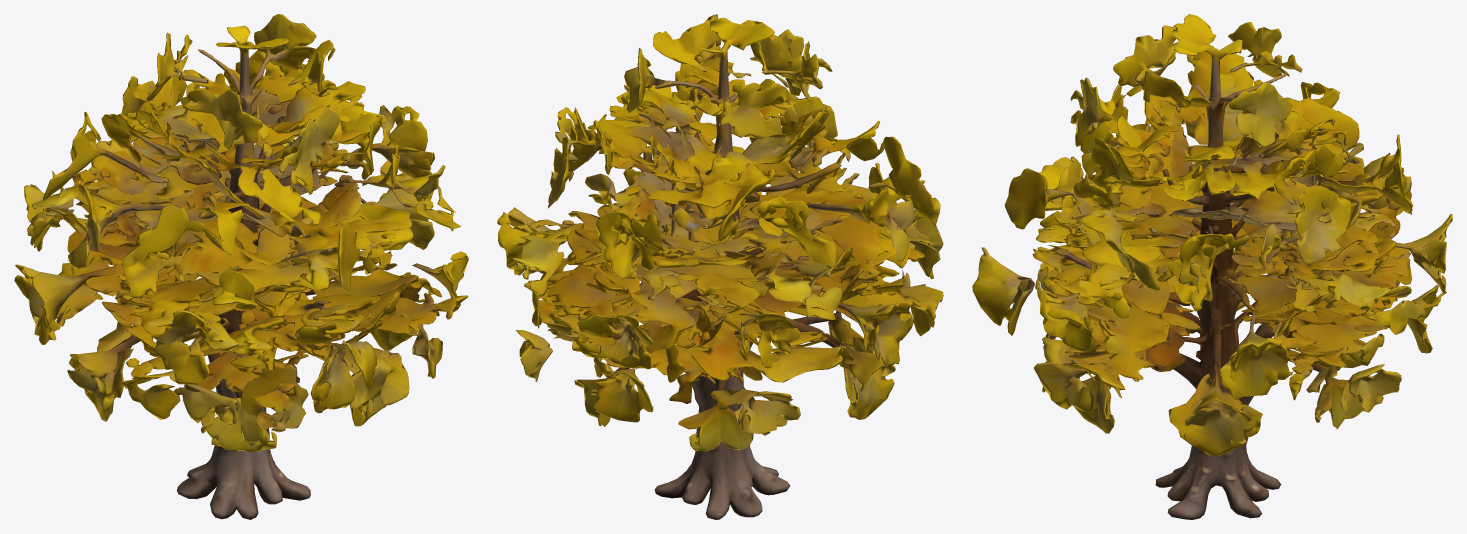
The model's file is nature-tree-ginkgo.glb.
3 views of the same model, side by side, from view 1: azimuth 30°, elevation 25°; view 2: azimuth 150°, elevation 25°; view 3: azimuth 270°, elevation 25° (orthographic).
Parts seen in each view (by area): view 1: tripo_node_9fc21e20-0073-4305-8b12-d090a768d9f2; view 2: tripo_node_9fc21e20-0073-4305-8b12-d090a768d9f2; view 3: tripo_node_9fc21e20-0073-4305-8b12-d090a768d9f2.
Part boxes in pixels (x1=…): tripo_node_9fc21e20-0073-4305-8b12-d090a768d9f2: x1=14, y1=14, x2=468, y2=519; tripo_node_9fc21e20-0073-4305-8b12-d090a768d9f2: x1=497, y1=14, x2=943, y2=519; tripo_node_9fc21e20-0073-4305-8b12-d090a768d9f2: x1=972, y1=14, x2=1452, y2=519.
Bounding box in the file's own units: 7.11 × 8 × 7.42.
1 material, 1 textured.
